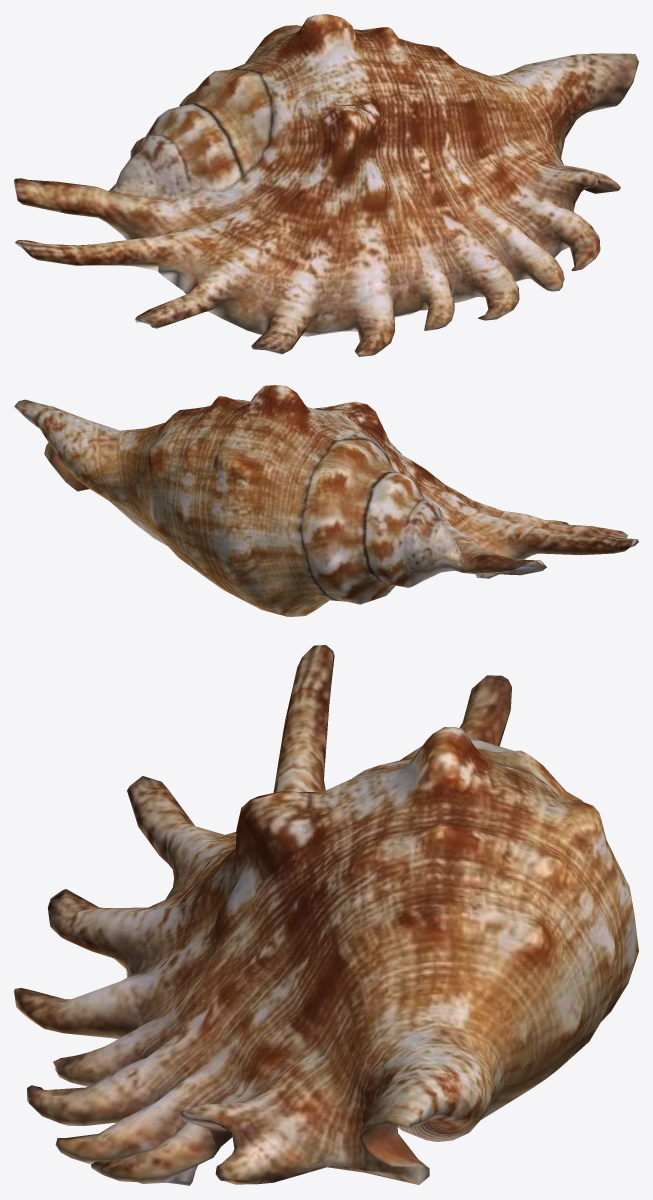
Rendered from lambis_shell.glb.
3 views of the same model, one above another, from view 1: azimuth 30°, elevation 25°; view 2: azimuth 150°, elevation 25°; view 3: azimuth 270°, elevation 25° (orthographic). The views are drawn at different scales.
Parts seen in each view (by area): view 1: lambis_shell; view 2: lambis_shell; view 3: lambis_shell.
Part boxes in pixels (<box>): lambis_shell: <box>14,14,638,356</box>; lambis_shell: <box>14,385,638,616</box>; lambis_shell: <box>14,645,638,1185</box>.
Size of the model in its own units: 0.1395 by 0.0465 by 0.0744.
1 material, 1 textured.
